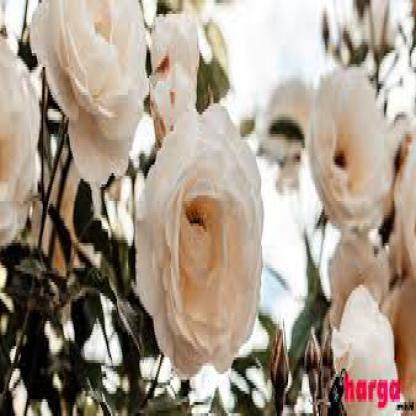Rose-Mawar: (1, 1, 265, 379), (307, 63, 416, 375)
